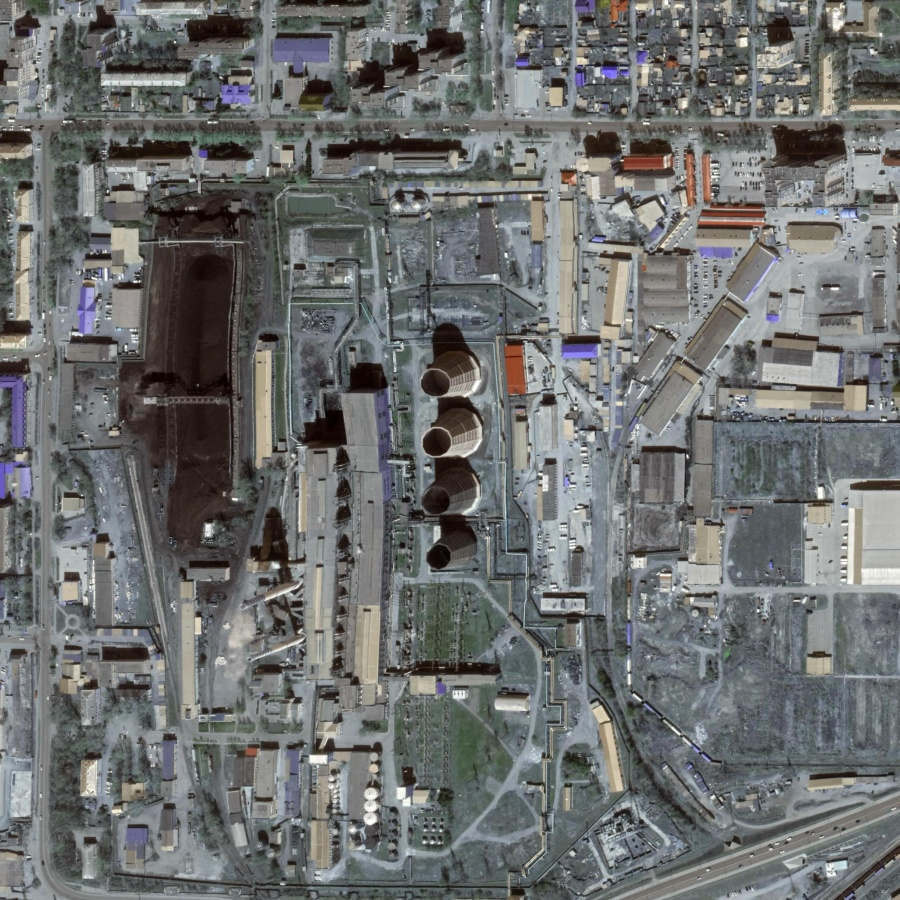PowerPlant: (105, 178, 515, 687)
